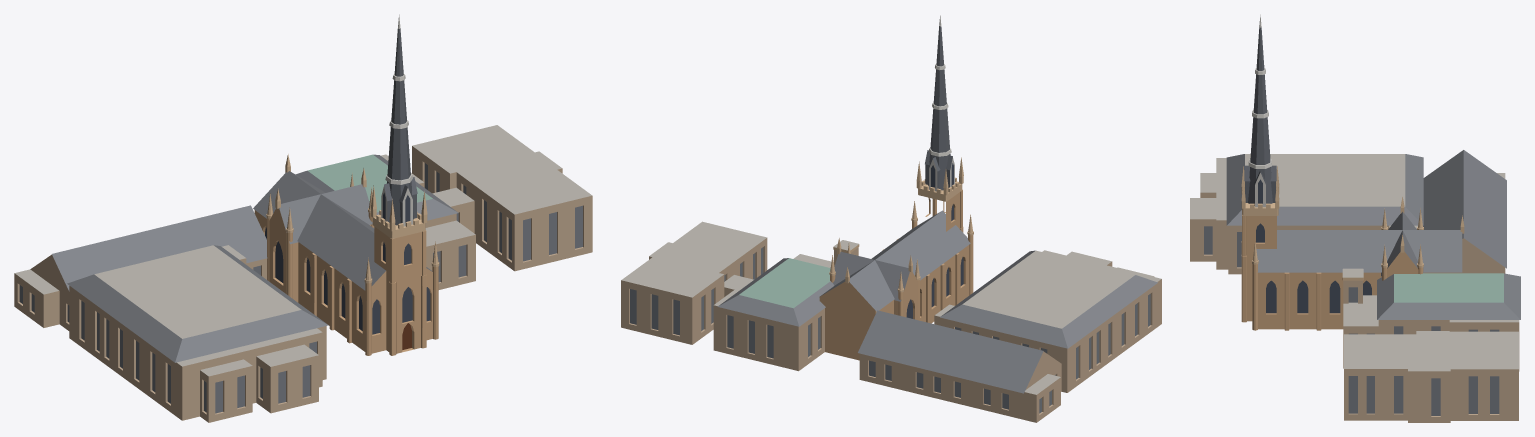
Rendered from first-presbyterian-charlotte.glb.
3 views of the same model, side by side, from view 1: azimuth 30°, elevation 25°; view 2: azimuth 150°, elevation 25°; view 3: azimuth 270°, elevation 25° (orthographic). The views are drawn at different scales.
Visible parts, largest first — view 1: First Presbyterian Church, Charlotte; view 2: First Presbyterian Church, Charlotte; view 3: First Presbyterian Church, Charlotte.
Part boxes in pixels (box(x1,y1,x2,y2)): First Presbyterian Church, Charlotte: box(14, 14, 592, 422); First Presbyterian Church, Charlotte: box(621, 15, 1161, 422); First Presbyterian Church, Charlotte: box(1190, 14, 1520, 422).
Bounding box in the file's own units: 100 × 64 × 63.9.
